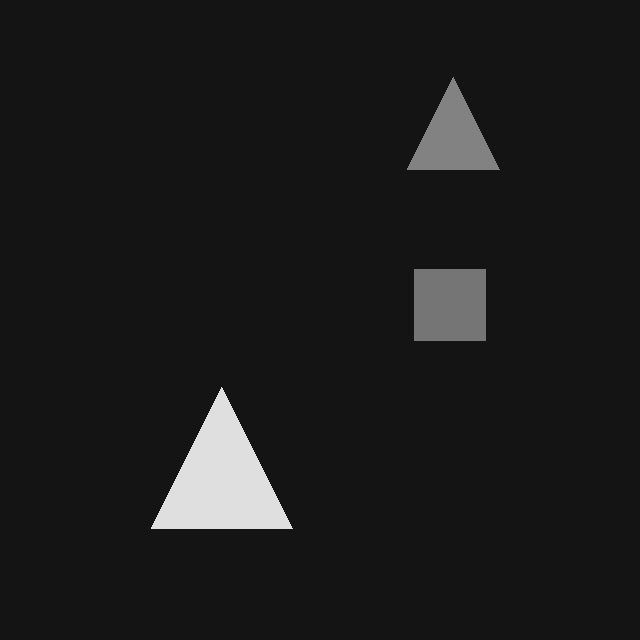square: (414, 269, 485, 340)
triangle: (151, 387, 292, 528), (407, 77, 499, 169)
